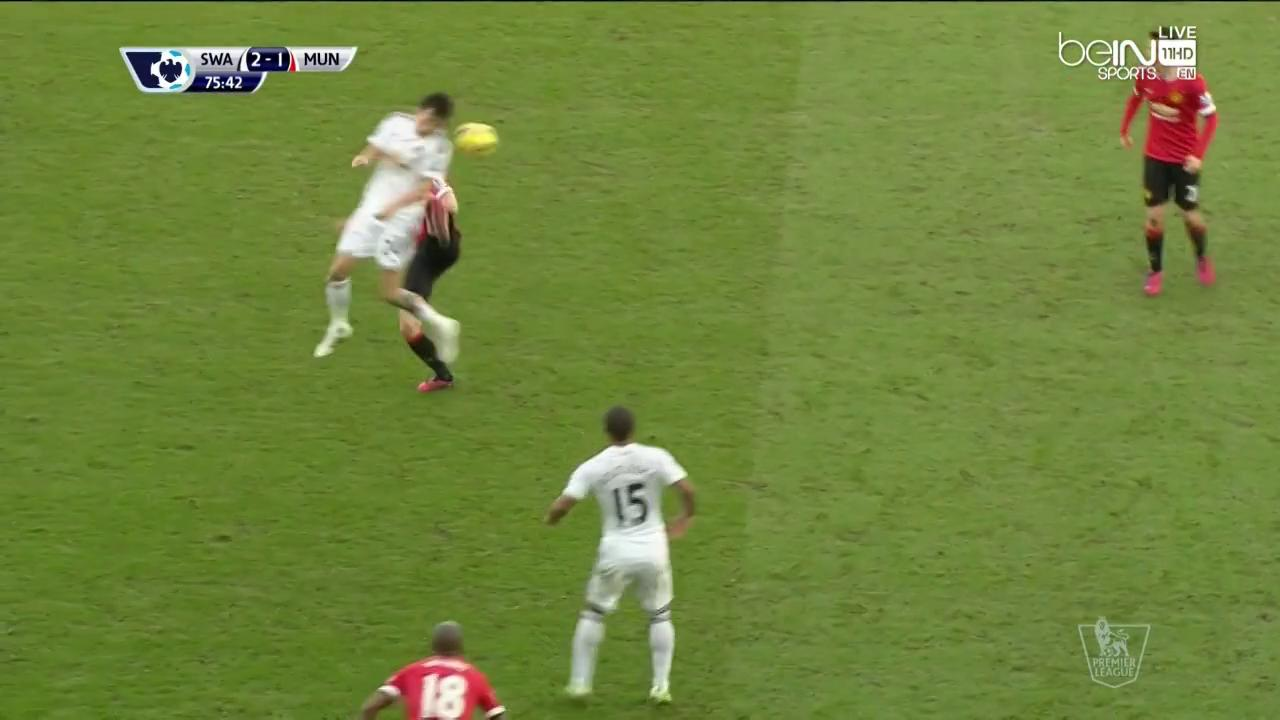football: (454, 122, 498, 157)
